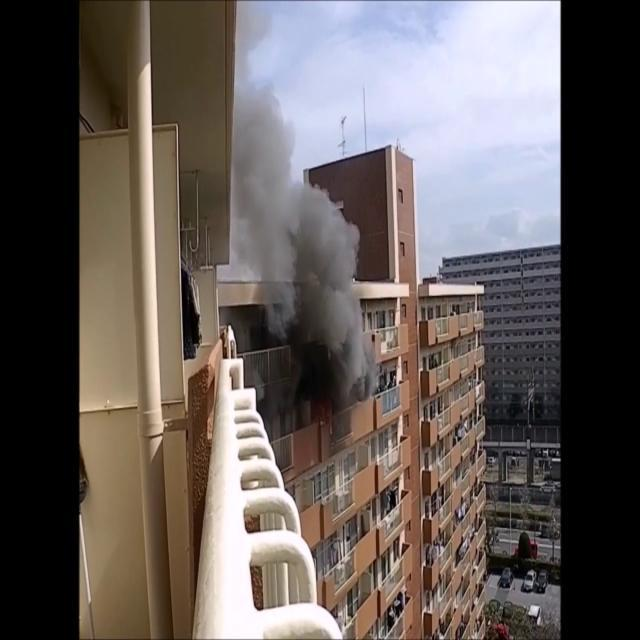Smoke: (216, 46, 374, 427)
